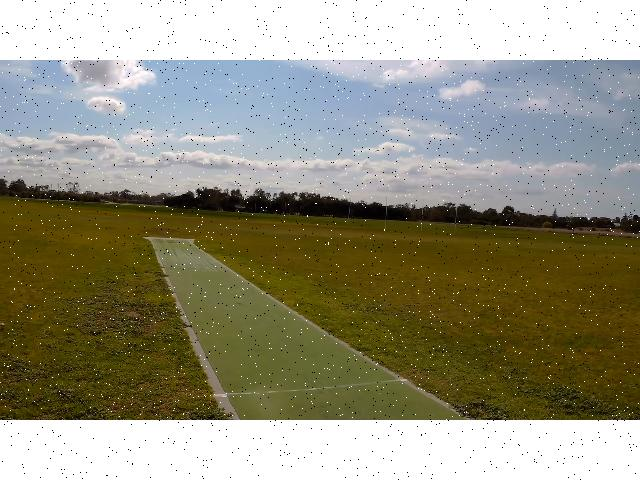Anti-Drone: (364, 143, 392, 157)
